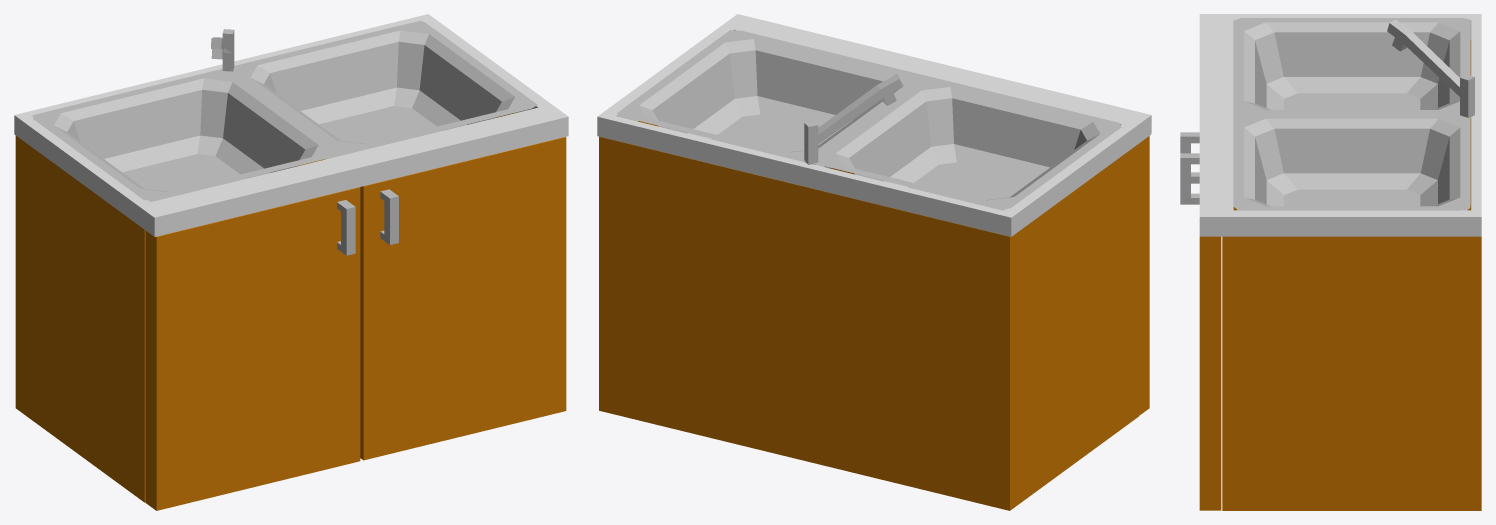
File: sweethome3d-contributions-red-cabinet-with-basin-140.glb
The picture shows the model from 3 angles, left to right: view 1: azimuth 30°, elevation 25°; view 2: azimuth 150°, elevation 25°; view 3: azimuth 270°, elevation 25°; orthographic projection.
Parts seen in each view (by area): view 1: Cube.002_Cube.002_Wood_Cherry, Plane_Plane_Aluminum, Plane.001_Plane.001_Material, Cube.002_Cube.002_Aluminum, Cube.001_Cube.001_Aluminum; view 2: Cube.002_Cube.002_Wood_Cherry, Plane_Plane_Aluminum, Plane.001_Plane.001_Material, Cube.001_Cube.001_Aluminum; view 3: Cube.002_Cube.002_Wood_Cherry, Plane_Plane_Aluminum, Plane.001_Plane.001_Material, Cube.001_Cube.001_Aluminum, Cube.002_Cube.002_Aluminum.
Boxes of the visible parts, bbox=[...] form: Cube.002_Cube.002_Wood_Cherry: bbox=[15, 112, 566, 510]; Plane_Plane_Aluminum: bbox=[32, 21, 537, 201]; Plane.001_Plane.001_Material: bbox=[14, 14, 568, 236]; Cube.002_Cube.002_Aluminum: bbox=[337, 189, 398, 255]; Cube.001_Cube.001_Aluminum: bbox=[211, 29, 234, 71]; Cube.002_Cube.002_Wood_Cherry: bbox=[599, 121, 1149, 510]; Plane_Plane_Aluminum: bbox=[617, 30, 1121, 210]; Plane.001_Plane.001_Material: bbox=[597, 14, 1151, 236]; Cube.001_Cube.001_Aluminum: bbox=[804, 75, 902, 164]; Cube.002_Cube.002_Wood_Cherry: bbox=[1199, 40, 1481, 510]; Plane_Plane_Aluminum: bbox=[1233, 18, 1470, 210]; Plane.001_Plane.001_Material: bbox=[1199, 14, 1481, 236]; Cube.001_Cube.001_Aluminum: bbox=[1387, 19, 1474, 117]; Cube.002_Cube.002_Aluminum: bbox=[1180, 132, 1199, 204].
Size of the model in its own units: 4.44 by 3.73 by 2.79.
